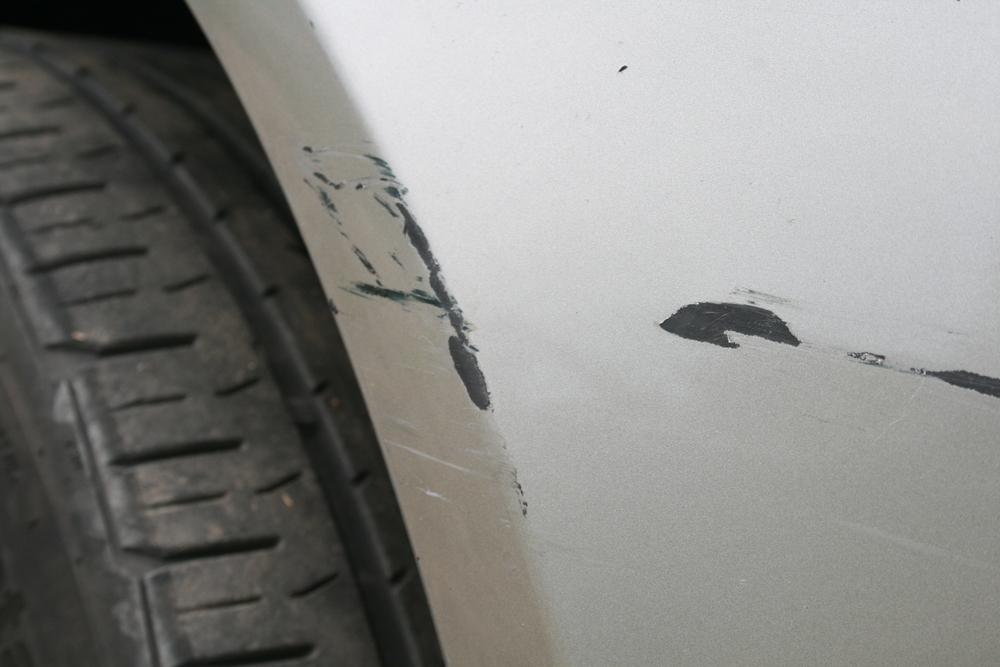scratch: (301, 133, 534, 519), (652, 289, 1000, 410)
